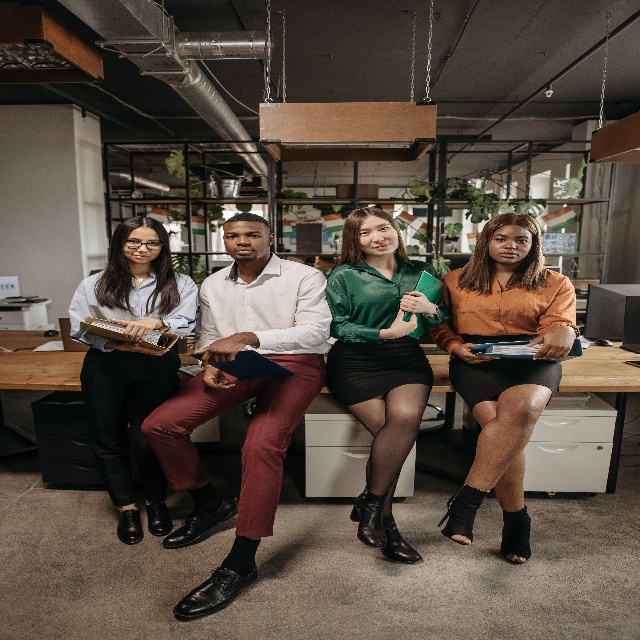Gafas: (122, 237, 162, 252)
Sin_guantes: (525, 322, 576, 363), (194, 331, 245, 370), (109, 317, 157, 344), (388, 308, 418, 340), (459, 343, 500, 364), (123, 340, 170, 357), (201, 366, 234, 390), (399, 290, 428, 314)
